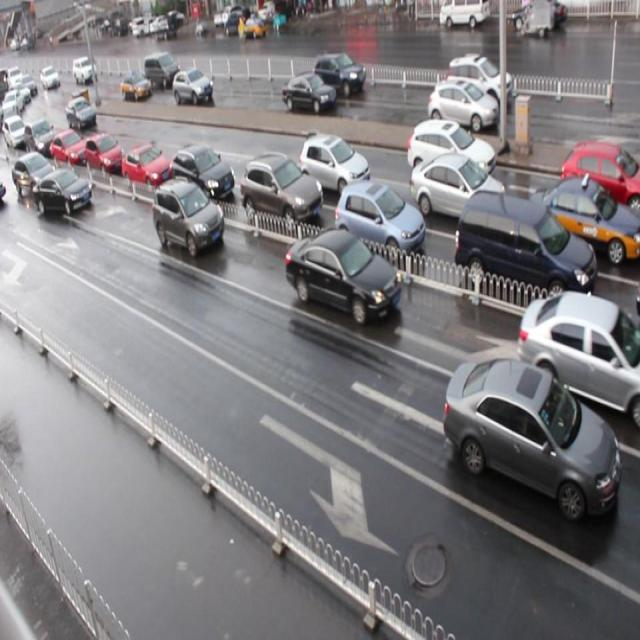car: (442, 354, 621, 520), (518, 288, 640, 422), (284, 228, 399, 324), (526, 177, 640, 266), (410, 152, 508, 230), (560, 137, 640, 228), (335, 183, 424, 263), (240, 156, 324, 233), (405, 120, 496, 187), (154, 176, 226, 255), (299, 130, 370, 201), (171, 143, 236, 211), (424, 79, 498, 134), (447, 55, 510, 109), (120, 142, 172, 196), (280, 72, 337, 115), (35, 171, 92, 212), (314, 54, 365, 98), (13, 152, 58, 196), (83, 133, 124, 178), (50, 130, 91, 172), (172, 67, 213, 104), (24, 120, 58, 160), (122, 72, 153, 104)
truck: (453, 188, 594, 312), (144, 53, 181, 88)
